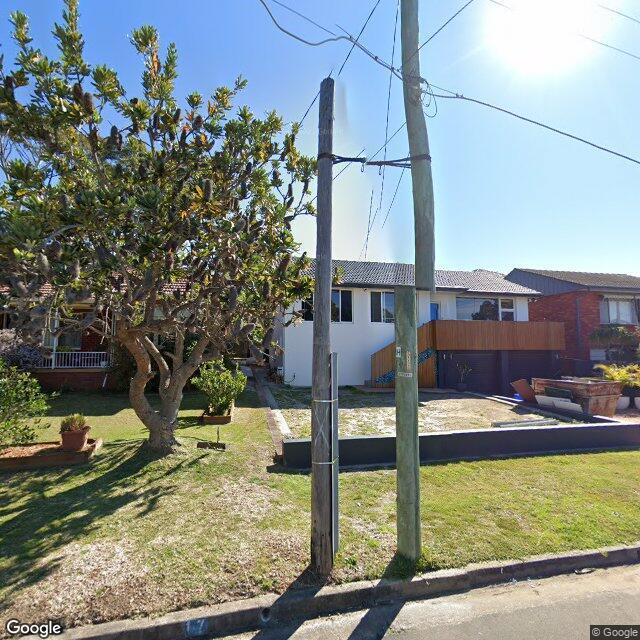timber-pole: (393, 0, 435, 561), (309, 78, 340, 574)
